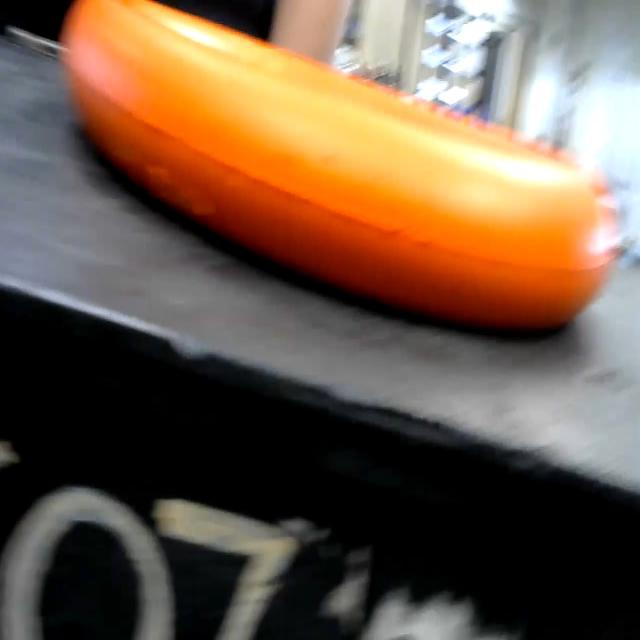note: (55, 0, 629, 355)
